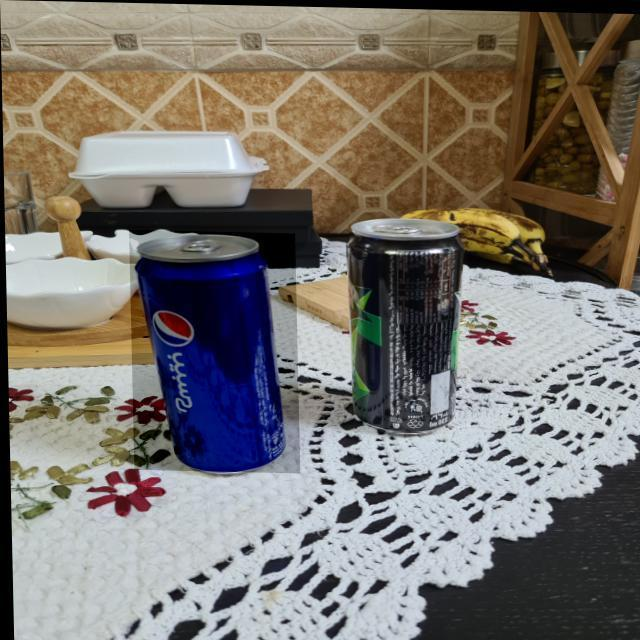trash: (125, 222, 299, 470), (340, 217, 460, 435)
